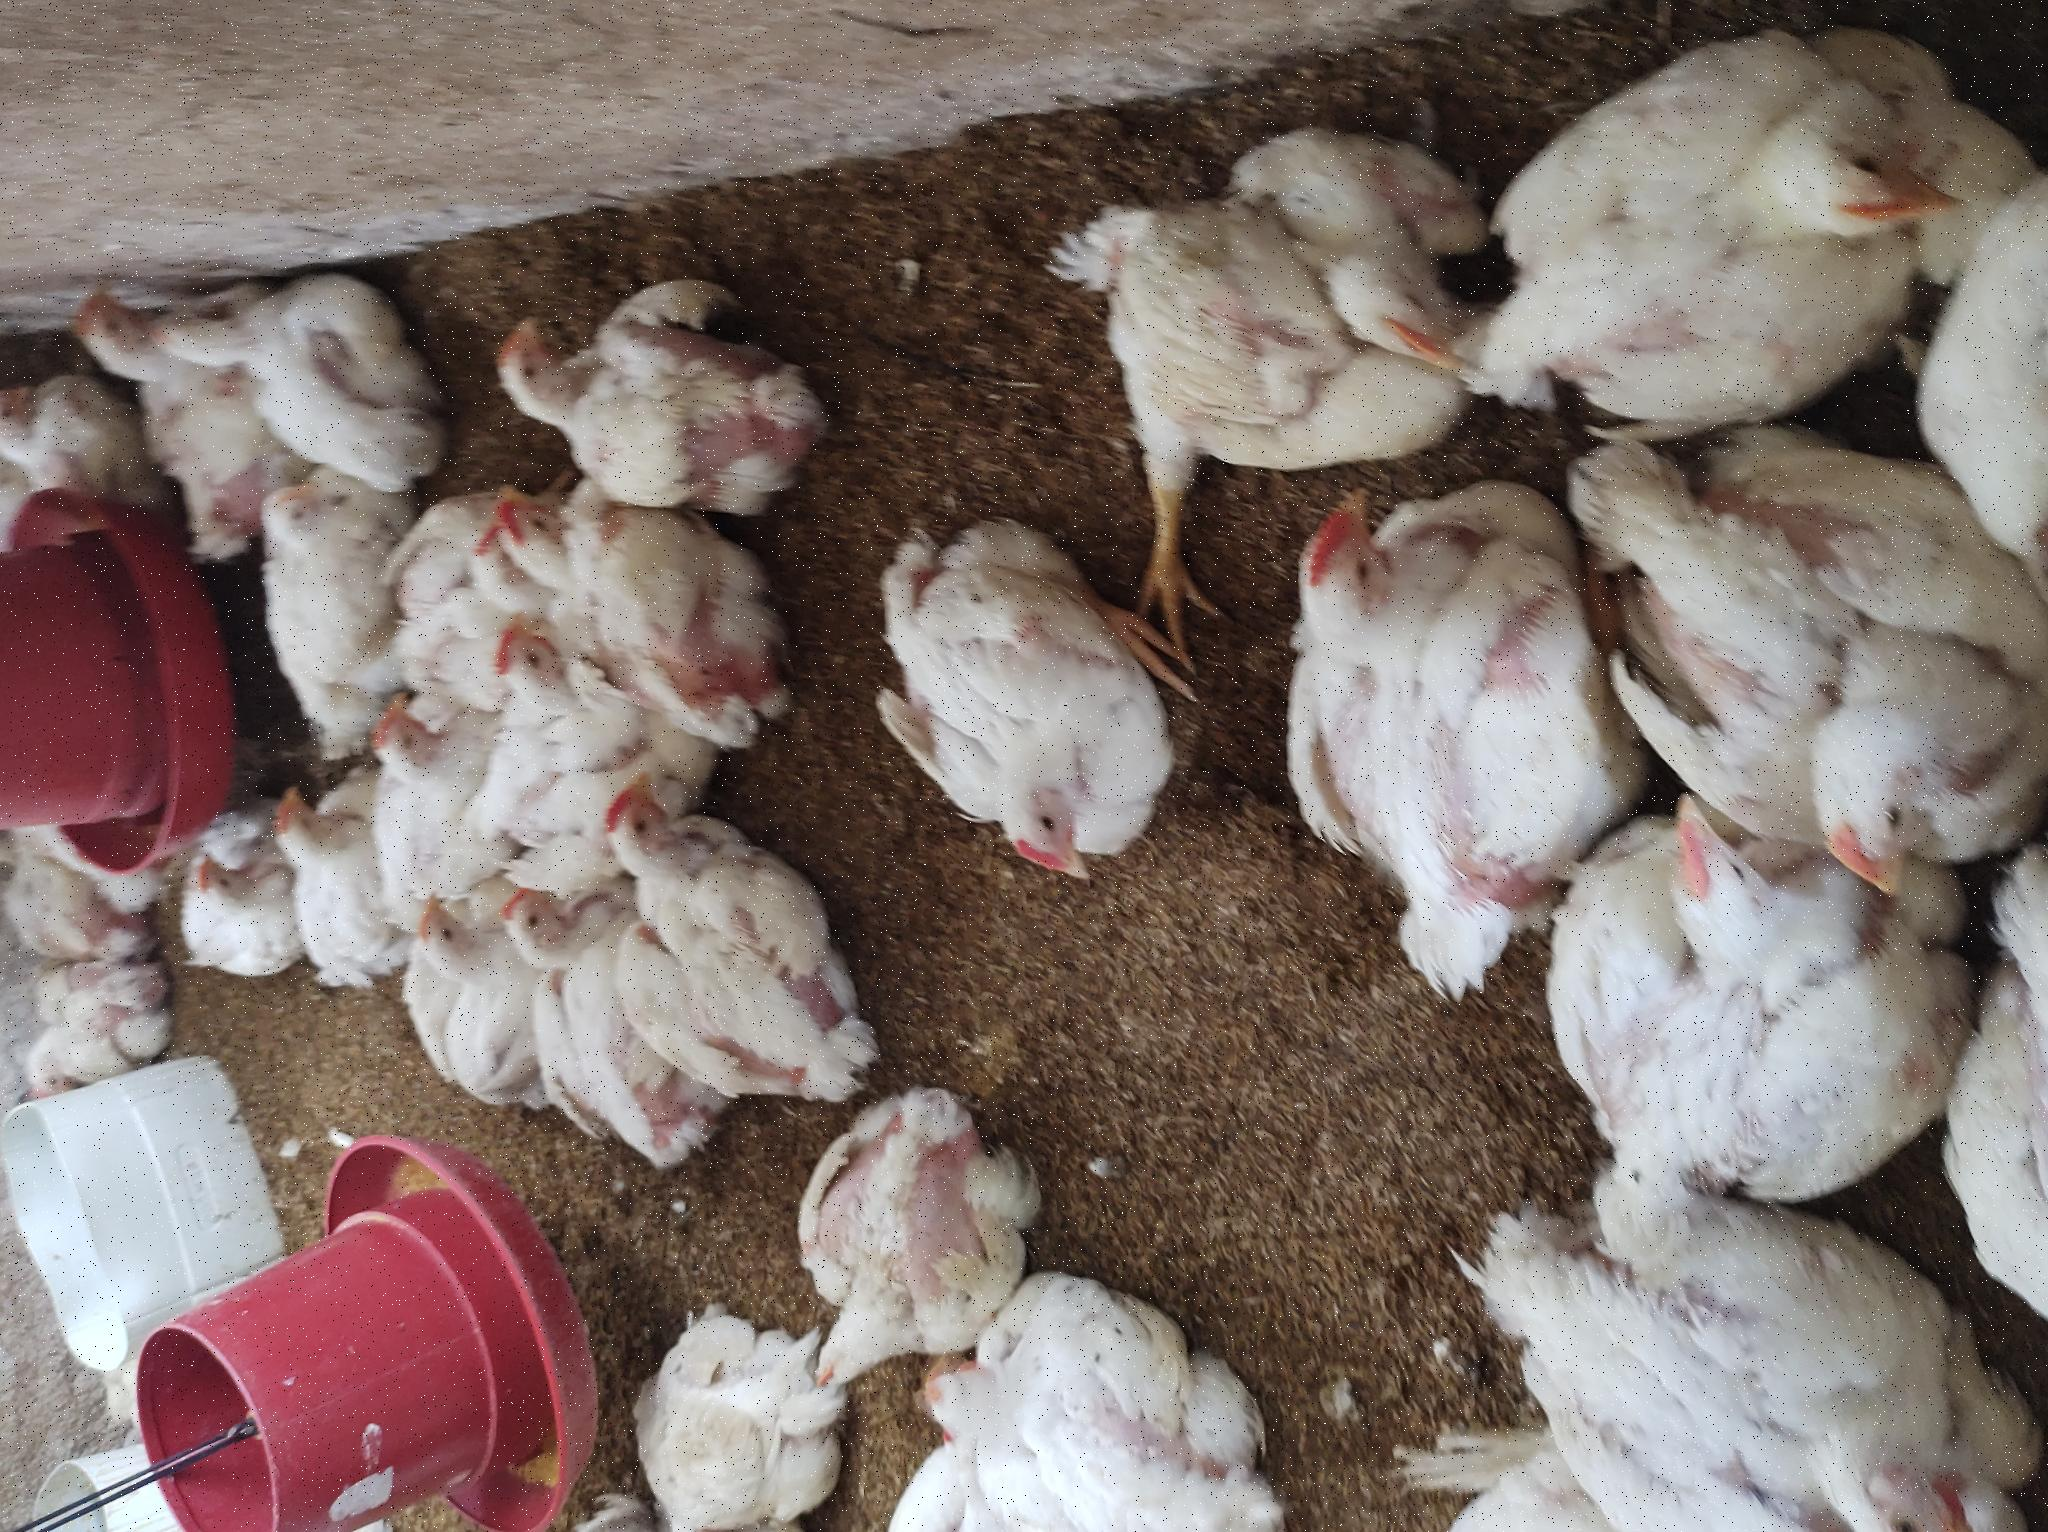Pollos: (1068, 1086, 1404, 1492), (557, 1258, 1054, 1532), (648, 855, 1038, 1186), (2, 916, 240, 1266), (439, 610, 750, 879), (1047, 475, 1260, 824), (135, 805, 455, 1015), (798, 502, 1031, 785), (2, 629, 228, 851), (1067, 153, 1245, 434), (804, 240, 1063, 381), (422, 497, 652, 657), (446, 378, 634, 539), (626, 357, 848, 476), (417, 14, 568, 161), (1044, 3, 1205, 126), (582, 266, 761, 375), (1113, 71, 1268, 185), (552, 171, 701, 280), (775, 480, 914, 566), (952, 425, 1043, 517)
